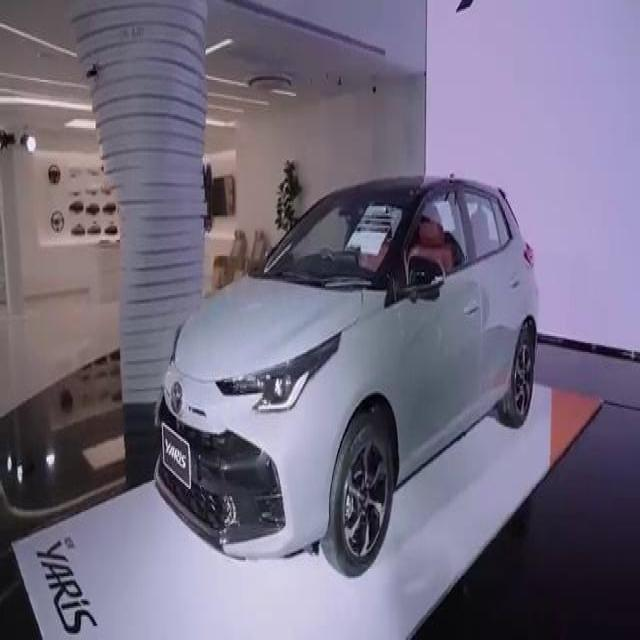Hatchback: (156, 178, 537, 576)
